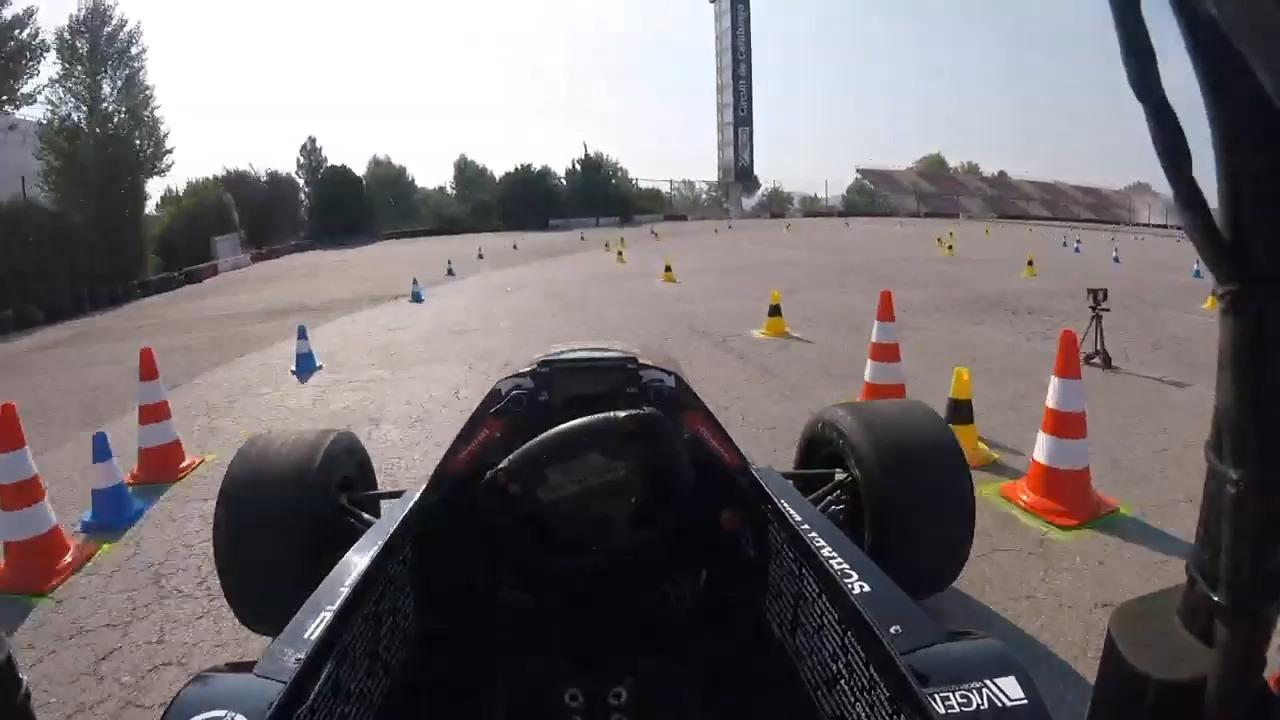blue_cone: (81, 429, 142, 537), (290, 321, 324, 374), (409, 275, 424, 303), (1190, 257, 1205, 279), (1110, 247, 1124, 264), (445, 259, 456, 278), (475, 247, 485, 263), (1073, 241, 1081, 255), (1060, 235, 1068, 248), (578, 230, 585, 242), (513, 238, 519, 250), (1075, 231, 1081, 243)
large_orange_cone: (992, 329, 1124, 534), (0, 396, 86, 609), (849, 290, 921, 439), (130, 340, 199, 491)
yellow_cone: (927, 361, 995, 466), (754, 290, 791, 339), (1200, 279, 1221, 313), (658, 257, 679, 286), (1020, 255, 1039, 278), (616, 248, 627, 265), (946, 241, 956, 258), (935, 235, 945, 249), (618, 234, 627, 248), (603, 240, 611, 252), (948, 230, 956, 241), (654, 231, 661, 241), (984, 227, 990, 238)
